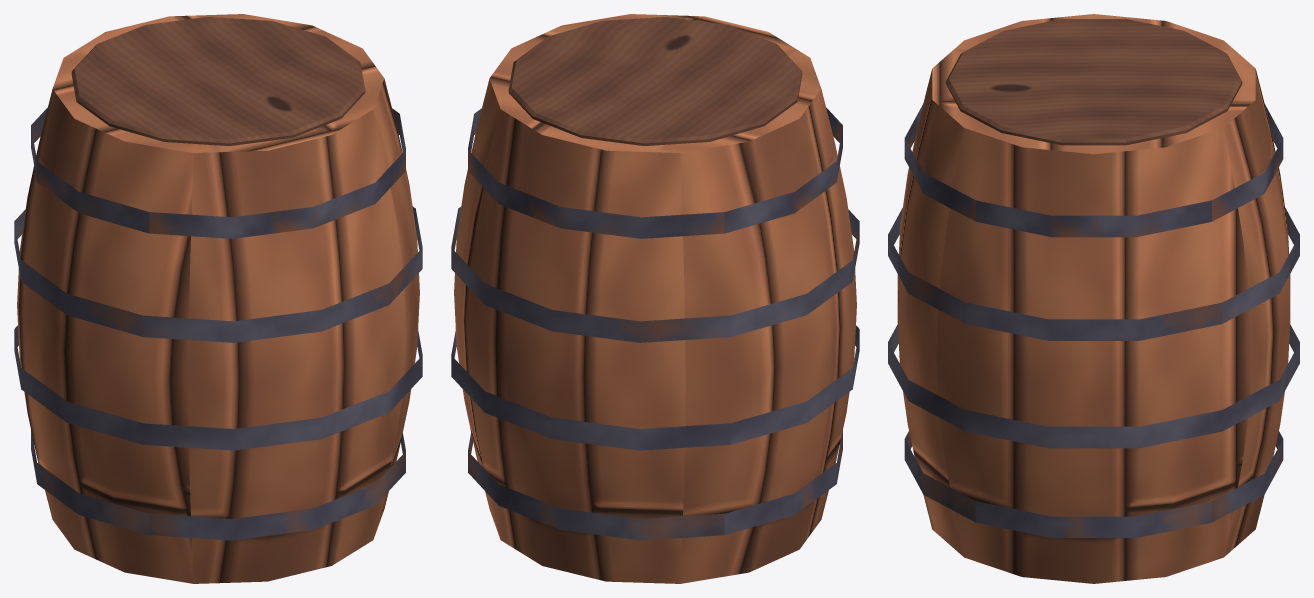
File: barrel.gltf
3 views of the same model, side by side, from view 1: azimuth 30°, elevation 25°; view 2: azimuth 150°, elevation 25°; view 3: azimuth 270°, elevation 25° (orthographic).
Visible parts, largest first — view 1: barrel_mesh; view 2: barrel_mesh; view 3: barrel_mesh.
Part boxes in pixels (bbox=[...]): barrel_mesh: bbox=[14, 14, 422, 583]; barrel_mesh: bbox=[451, 14, 859, 583]; barrel_mesh: bbox=[888, 14, 1299, 583].
Size of what is drawn, in the model's own units: 0.68 by 0.81 by 0.6949.
Materials: 3 (3 with a texture image).
